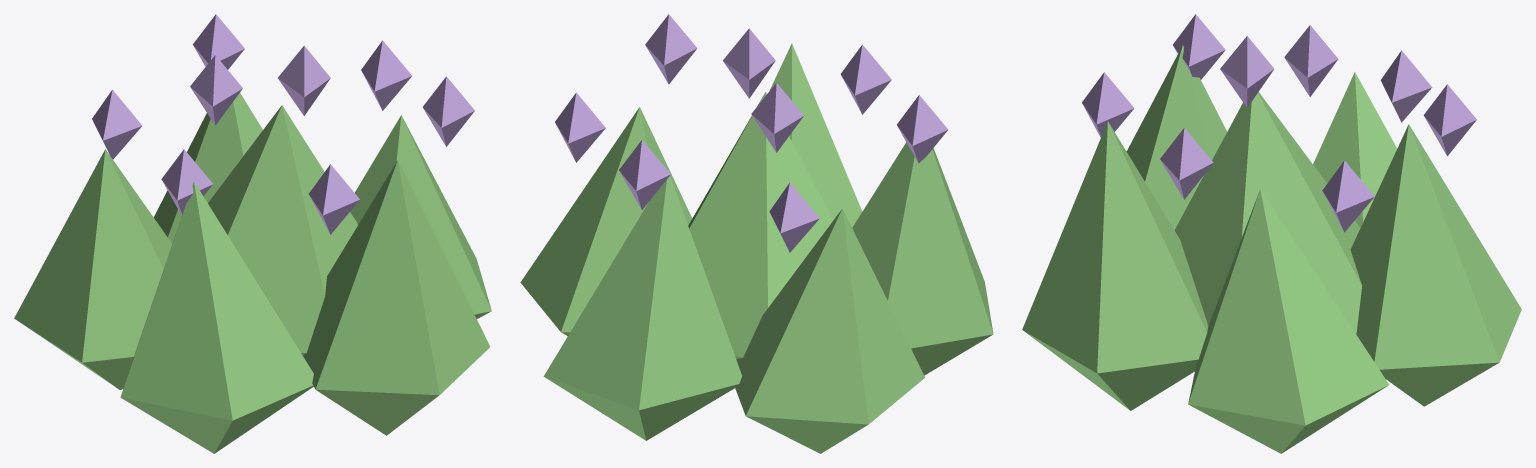
Rendered from alfalfa.glb.
The picture shows the model from 3 angles, left to right: view 1: azimuth 30°, elevation 25°; view 2: azimuth 150°, elevation 25°; view 3: azimuth 270°, elevation 25°; orthographic projection. The views are drawn at different scales.
Visible parts, largest first — view 1: crop; view 2: crop; view 3: crop.
Boxes of the visible parts, box(x1,y1,x2,y2) form: crop: box(14, 14, 491, 453); crop: box(520, 14, 993, 453); crop: box(1022, 14, 1521, 453).
Size of the model in its own units: 0.8576 by 0.7 by 0.874.
